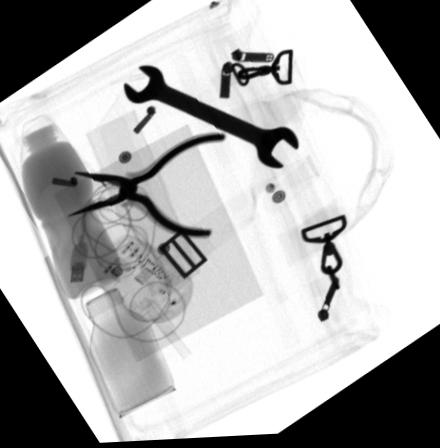Pliers: (67, 134, 225, 242)
Wrench: (123, 66, 298, 174)
